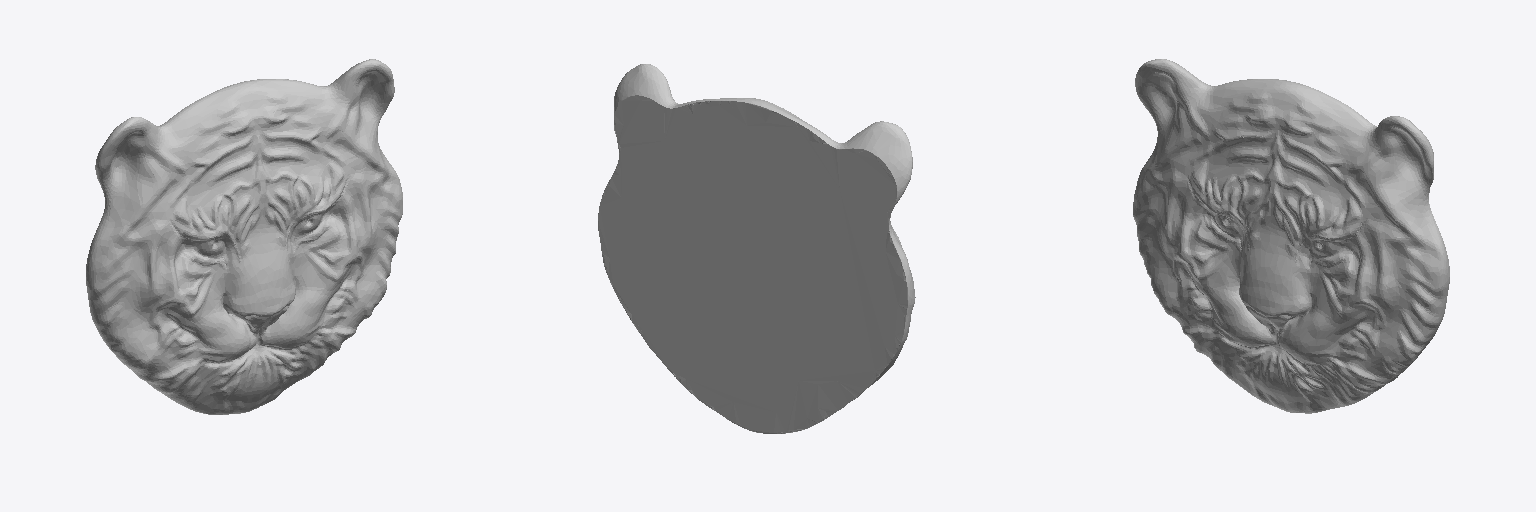
The model's file is tiger.obj.
3 views of the same model, side by side, from view 1: azimuth 30°, elevation 25°; view 2: azimuth 150°, elevation 25°; view 3: azimuth 330°, elevation 25° (orthographic).
Visible parts, largest first — view 1: tiger_face_hollow; view 2: tiger_face_hollow; view 3: tiger_face_hollow.
Boxes of the visible parts, x1=… form: tiger_face_hollow: x1=86, y1=59, x2=402, y2=414; tiger_face_hollow: x1=598, y1=64, x2=915, y2=433; tiger_face_hollow: x1=1133, y1=59, x2=1449, y2=413.
Bounding box in the file's own units: 1.92 × 1.94 × 0.3238.